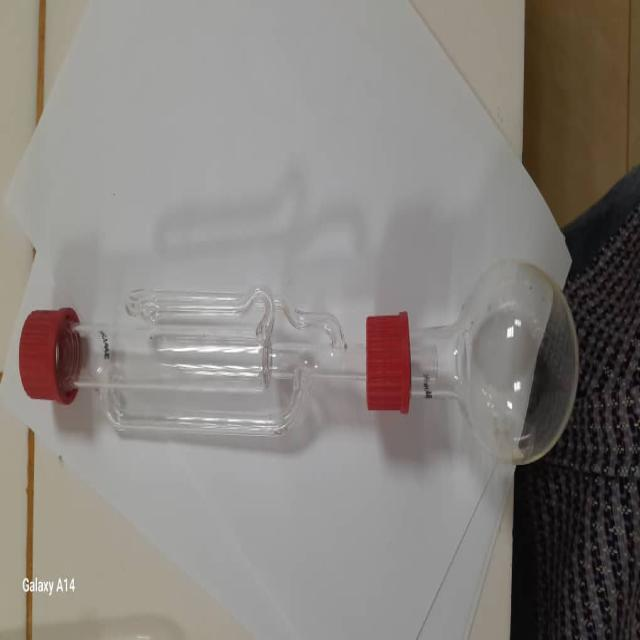Soxhlet: (16, 254, 579, 486)
